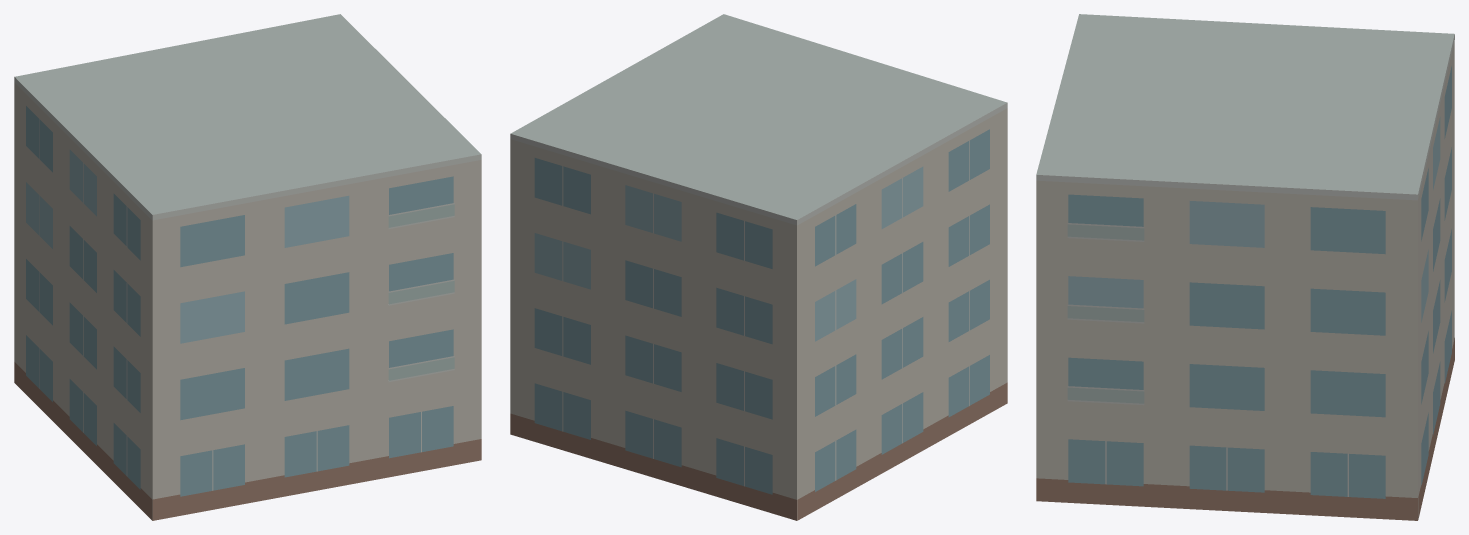
Rendered from survey-upis-32802413.glb.
3 views of the same model, side by side, from view 1: azimuth 30°, elevation 25°; view 2: azimuth 150°, elevation 25°; view 3: azimuth 270°, elevation 25° (orthographic). The views are drawn at different scales.
Visible parts, largest first — view 1: survey-upis-32802413.tmp; view 2: survey-upis-32802413.tmp; view 3: survey-upis-32802413.tmp.
Part boxes in pixels (bbox=[...]): survey-upis-32802413.tmp: bbox=[14, 14, 481, 520]; survey-upis-32802413.tmp: bbox=[510, 14, 1007, 520]; survey-upis-32802413.tmp: bbox=[1036, 14, 1454, 520].
Bounding box in the file's own units: 16.09 × 13.55 × 15.76.
